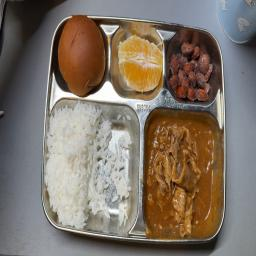100_bread: (61, 14, 106, 92)
100_nuts: (167, 33, 213, 101)
100_orange: (114, 25, 163, 97)
50_rice: (51, 99, 135, 232)
75_beef: (146, 109, 218, 239)
